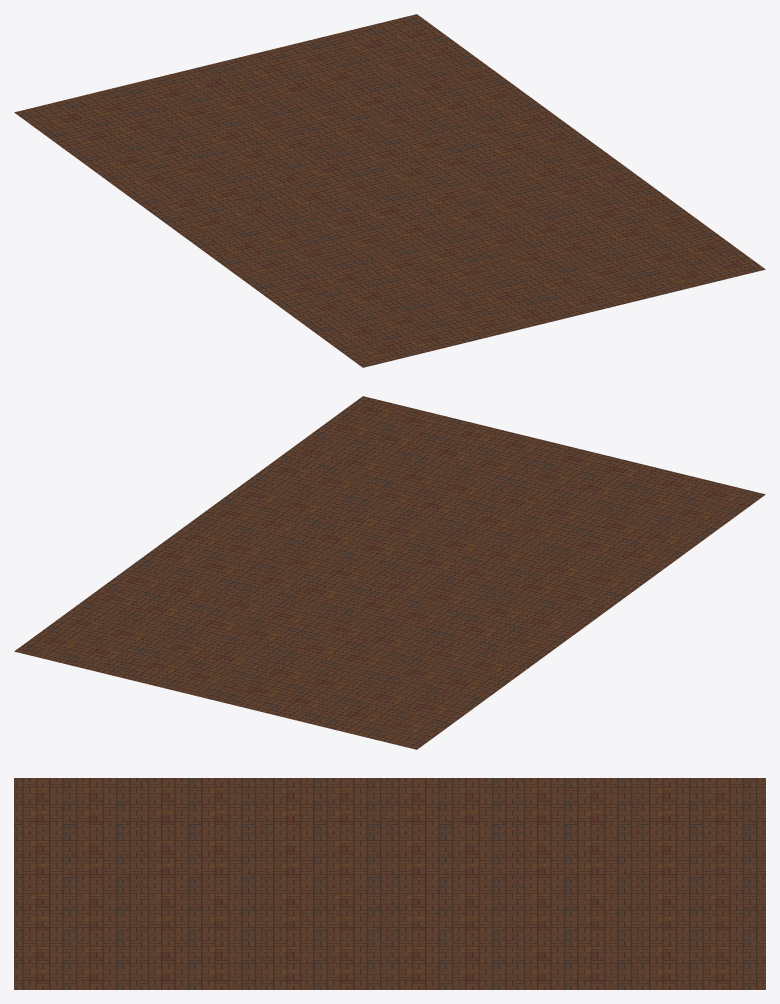
The model's file is Vin_ground2.fbx.
3 renders of one model, top to bottom at view 1: azimuth 30°, elevation 25°; view 2: azimuth 150°, elevation 25°; view 3: azimuth 270°, elevation 25°, orthographic. The views are drawn at different scales.
Parts seen in each view (by area): view 1: Vin_ground2; view 2: Vin_ground2; view 3: Vin_ground2.
Part boxes in pixels (x1,y1,x2,y2): Vin_ground2: (14, 14, 765, 367); Vin_ground2: (14, 396, 765, 749); Vin_ground2: (14, 778, 765, 989).
Bounding box in the file's own units: 4800 × 4.17e-05 × 7200.
1 material, 1 textured.
